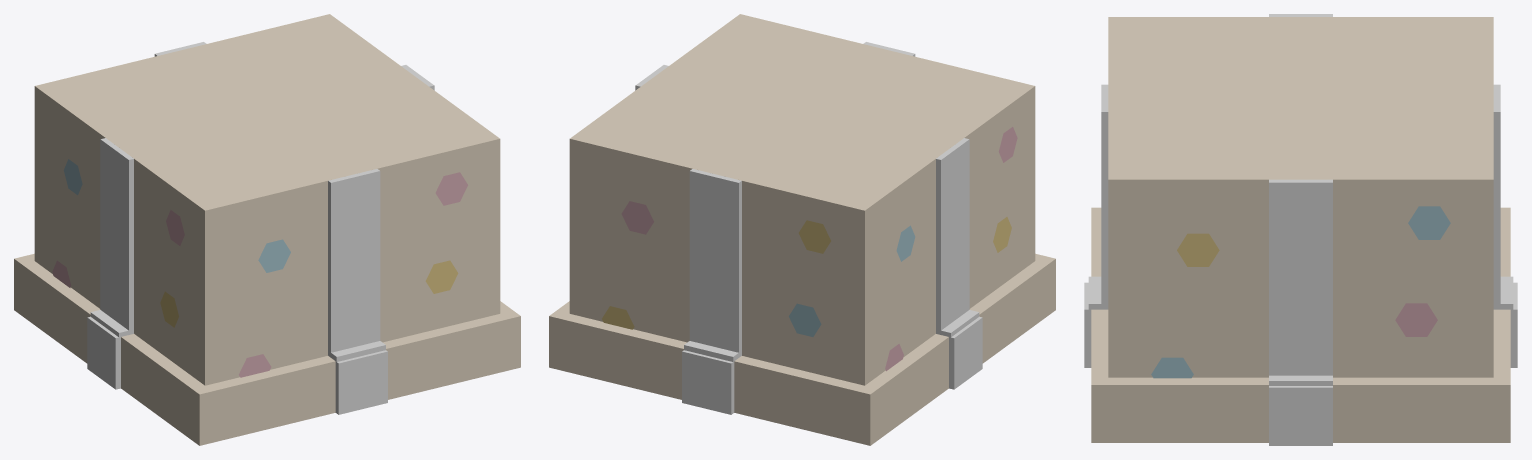
File: gift-box.glb
The picture shows the model from 3 angles, left to right: view 1: azimuth 30°, elevation 25°; view 2: azimuth 150°, elevation 25°; view 3: azimuth 270°, elevation 25°; orthographic projection. The views are drawn at different scales.
Visible parts, largest first — view 1: prop-gift_box, prop-gift_box-lid, prop-gift_box-band, prop-gift_box-bow; view 2: prop-gift_box, prop-gift_box-lid, prop-gift_box-band, prop-gift_box-bow; view 3: prop-gift_box, prop-gift_box-lid, prop-gift_box-band, prop-gift_box-bow.
Part boxes in pixels (x1,y1,x2,y2): prop-gift_box: (34, 14, 500, 385); prop-gift_box-lid: (14, 253, 520, 445); prop-gift_box-band: (100, 42, 434, 352); prop-gift_box-bow: (87, 310, 387, 414); prop-gift_box: (569, 14, 1035, 385); prop-gift_box-lid: (549, 253, 1055, 445); prop-gift_box-band: (635, 42, 969, 352); prop-gift_box-bow: (682, 310, 982, 414); prop-gift_box: (1108, 17, 1493, 378); prop-gift_box-lid: (1091, 207, 1510, 442); prop-gift_box-band: (1101, 14, 1500, 375); prop-gift_box-bow: (1084, 276, 1517, 445).
Bounding box in the file's own units: 1.01 × 0.66 × 1.01.
